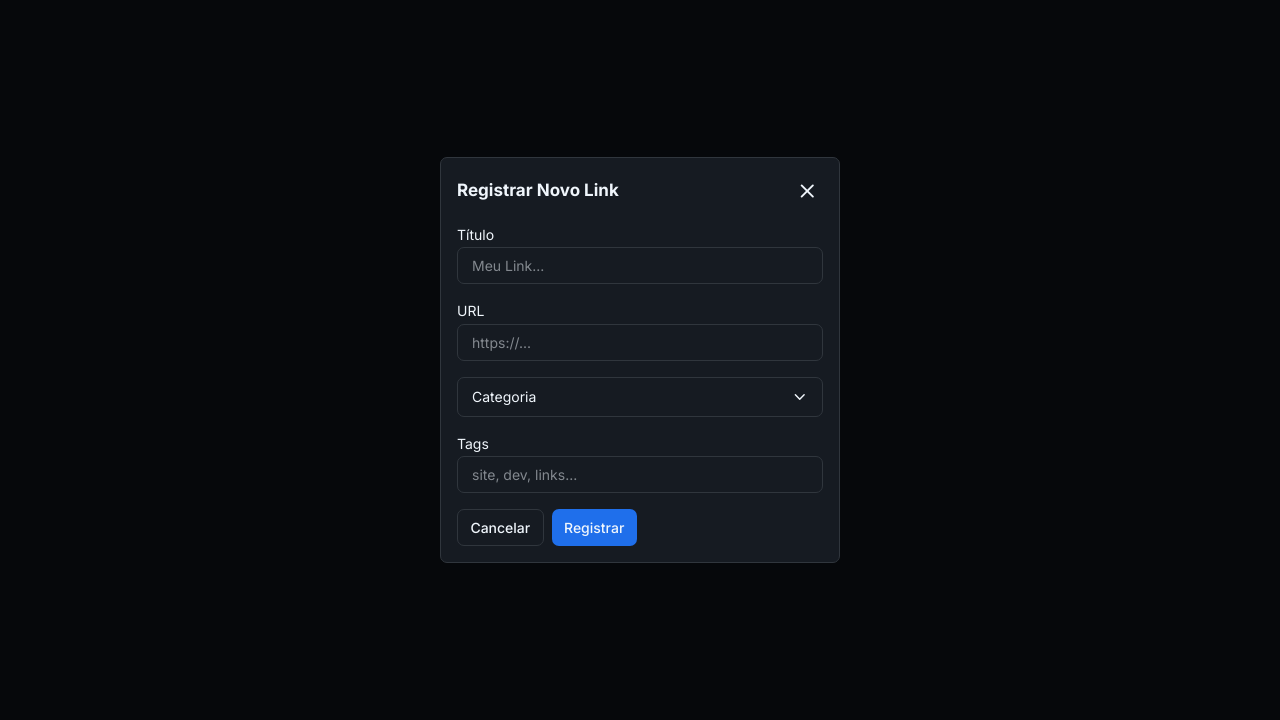
Test: Modal Component › should display validation errors after trying to submit an empty form
Click the button "Registrar".
click(594, 528)  # box [552,510,637,546]
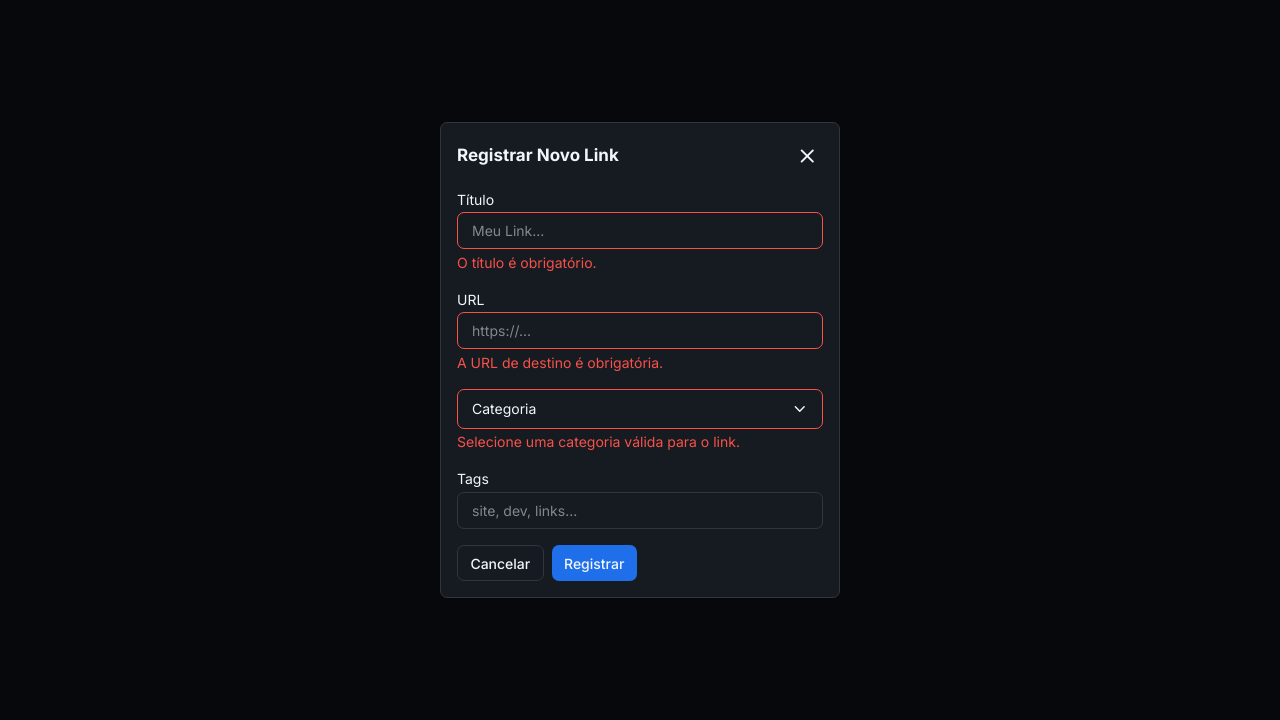
Expected: the text "O título é obrigatório." is shown, [457,254,597,271]
Expected: the text "A URL de destino é obrigatória." is shown, [457,354,663,371]
Expected: the text "Selecione uma categoria válida para o link." is shown, [457,433,740,450]
